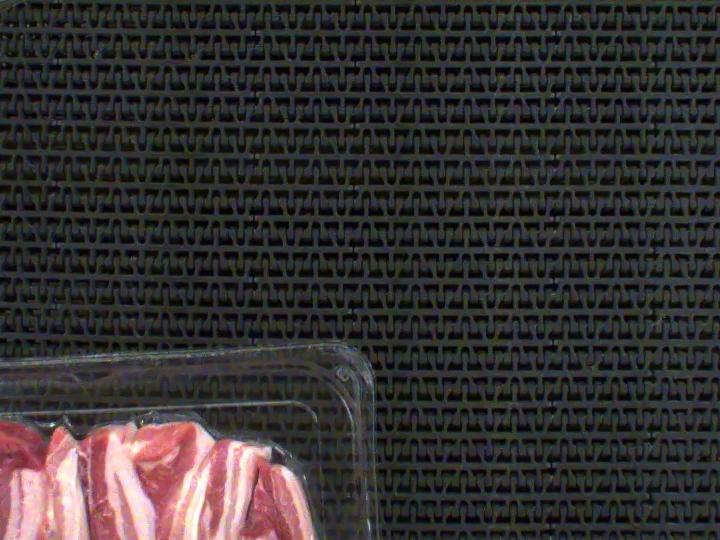unsealed: (0, 397, 306, 485)
